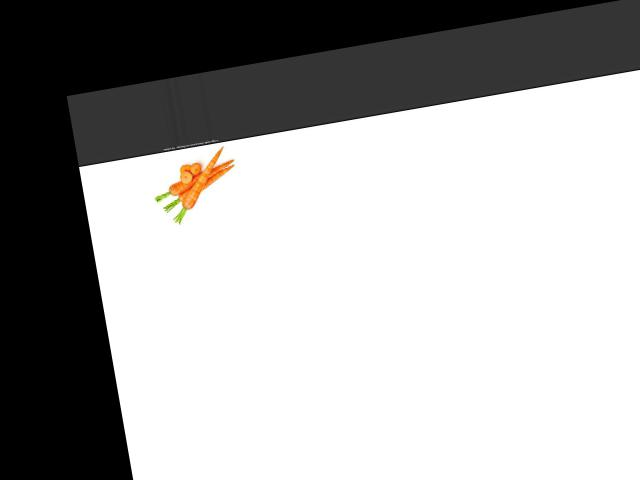carrot: (160, 161, 242, 206)
